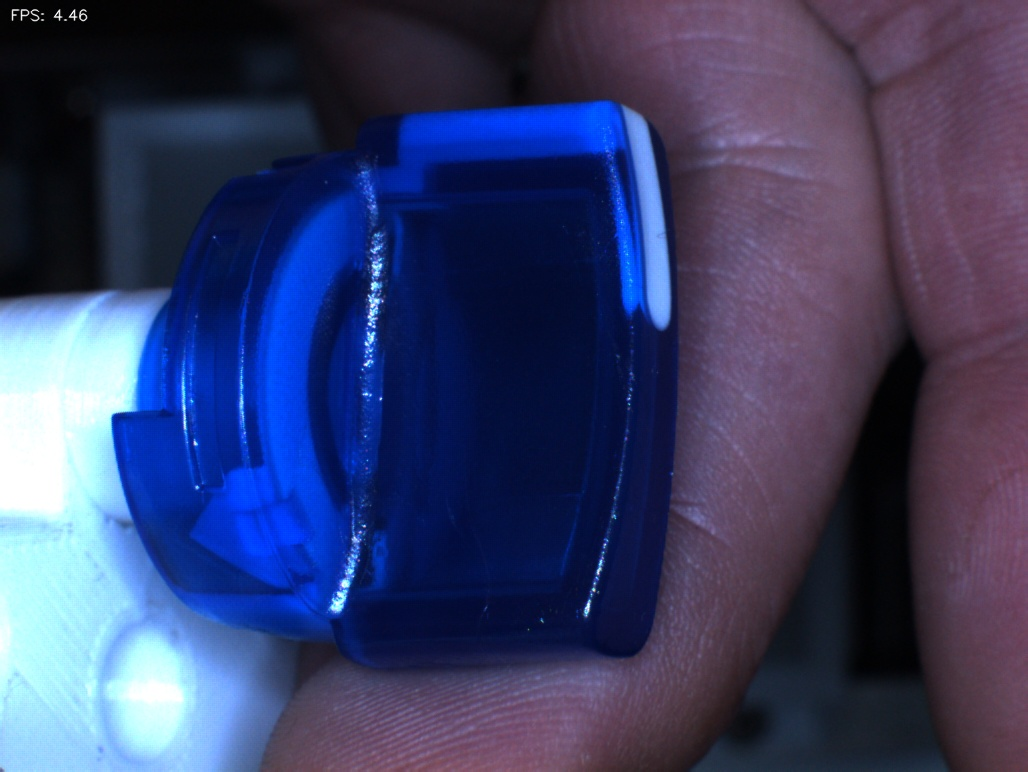Givrage: (436, 461, 504, 624)
